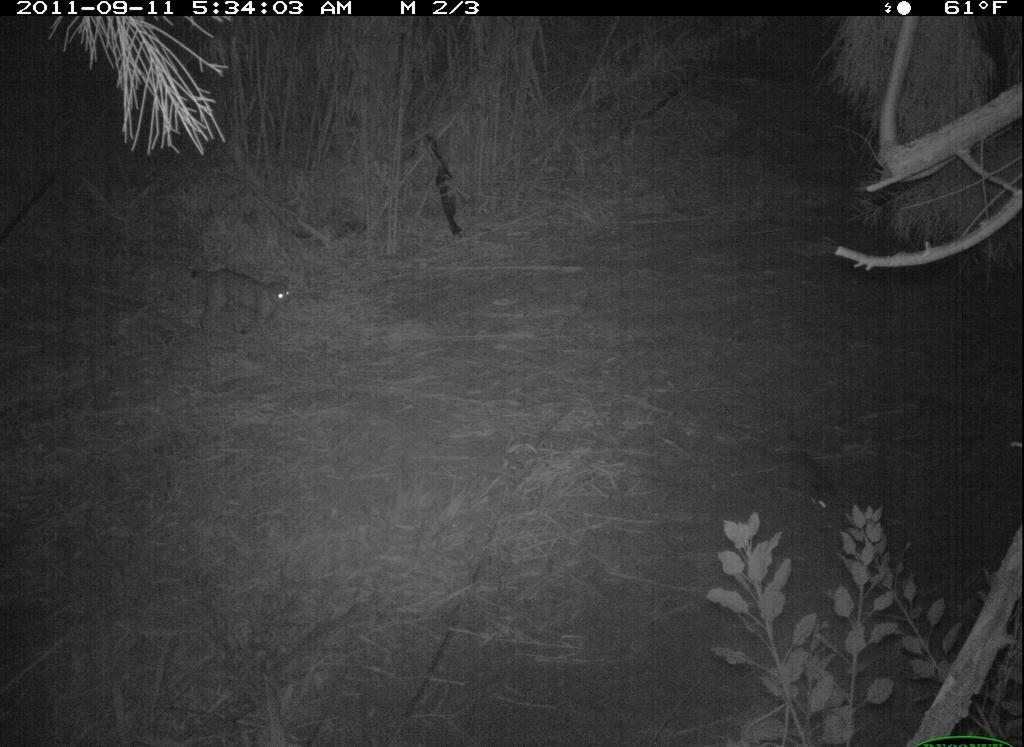bobcat: (186, 262, 308, 351)
